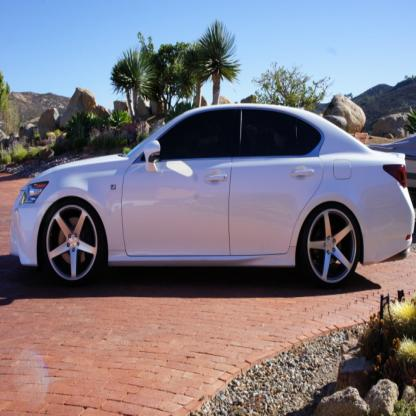Car: (17, 103, 408, 298), (367, 133, 416, 190)
